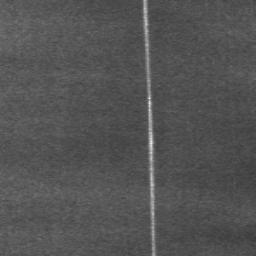Bright scratch: (143, 0, 156, 256)
